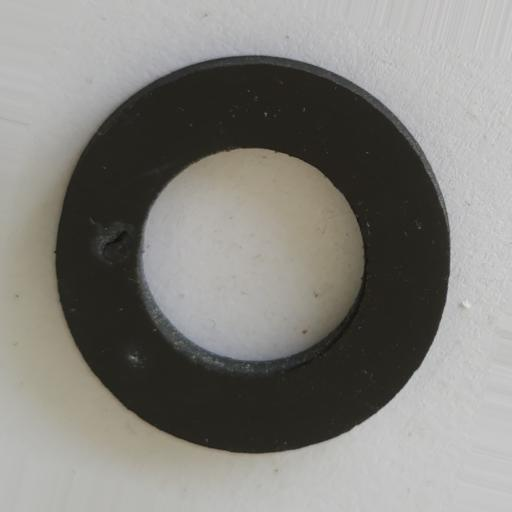defect: (91, 220, 133, 263), (127, 349, 145, 369)
